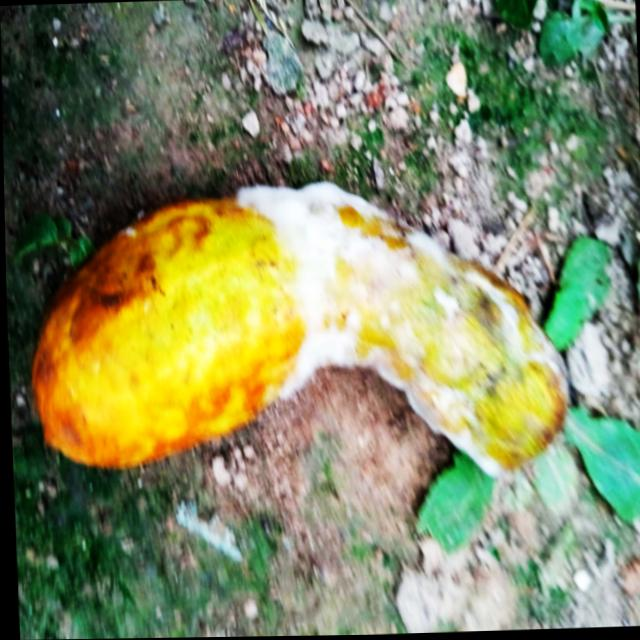Pythium-Fruit-Rot: (229, 176, 558, 494)
